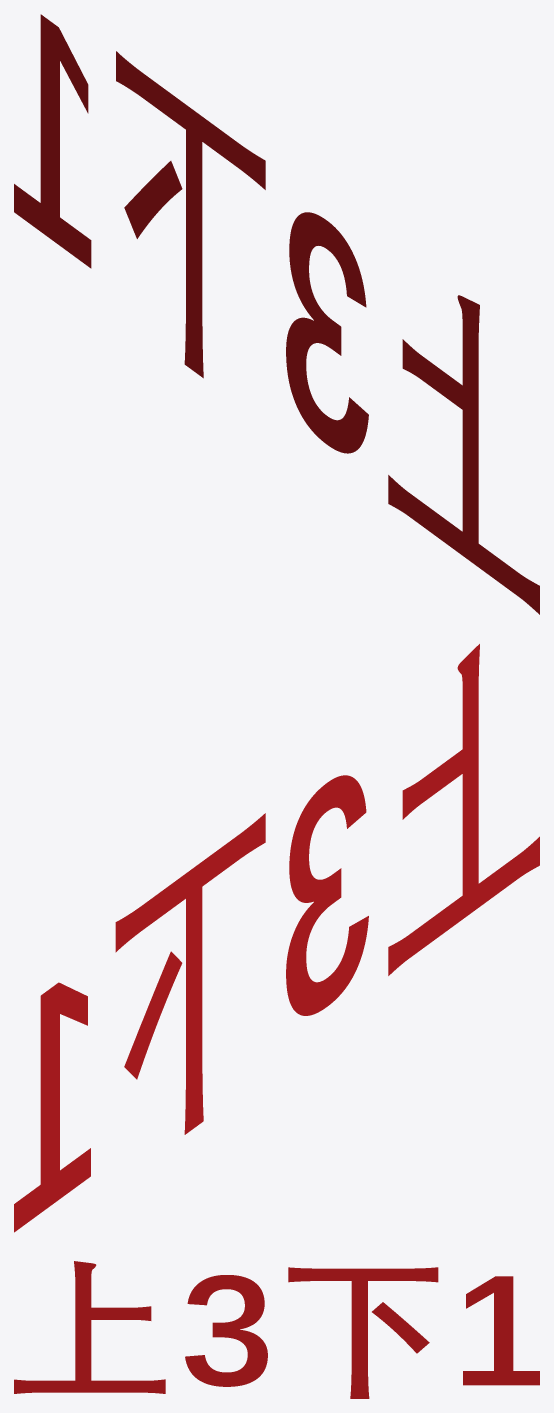
3 views of the same model, one above another, from view 1: azimuth 30°, elevation 25°; view 2: azimuth 150°, elevation 25°; view 3: azimuth 270°, elevation 25° (orthographic). The views are drawn at different scales.
Parts seen in each view (by area): view 1: Text; view 2: Text; view 3: Text.
Part boxes in pixels (x1=…): Text: x1=14, y1=14, x2=539, y2=614; Text: x1=14, y1=644, x2=539, y2=1232; Text: x1=14, y1=1261, x2=539, y2=1398.
Bounding box in the file's own units: 0.0566 × 71.64 × 248.
